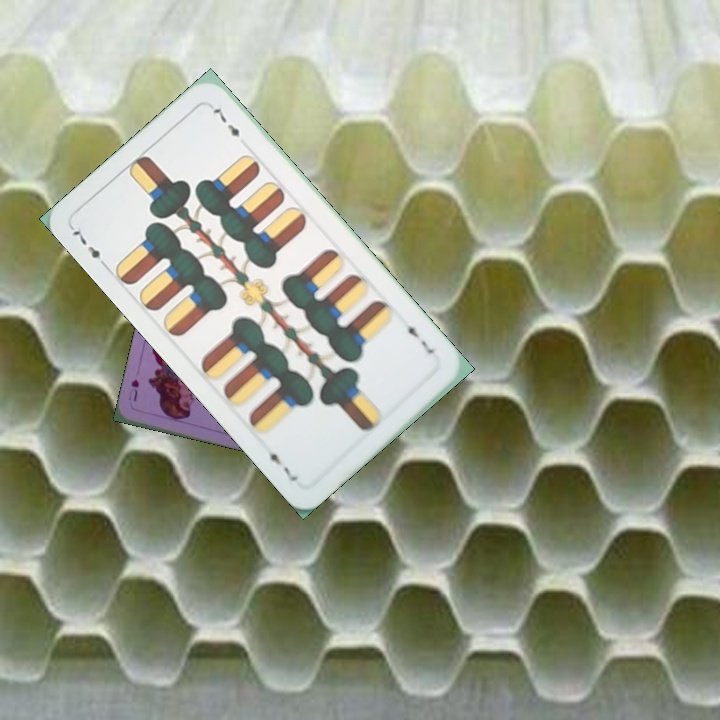E7: (67, 223, 111, 271), (401, 316, 438, 357)
